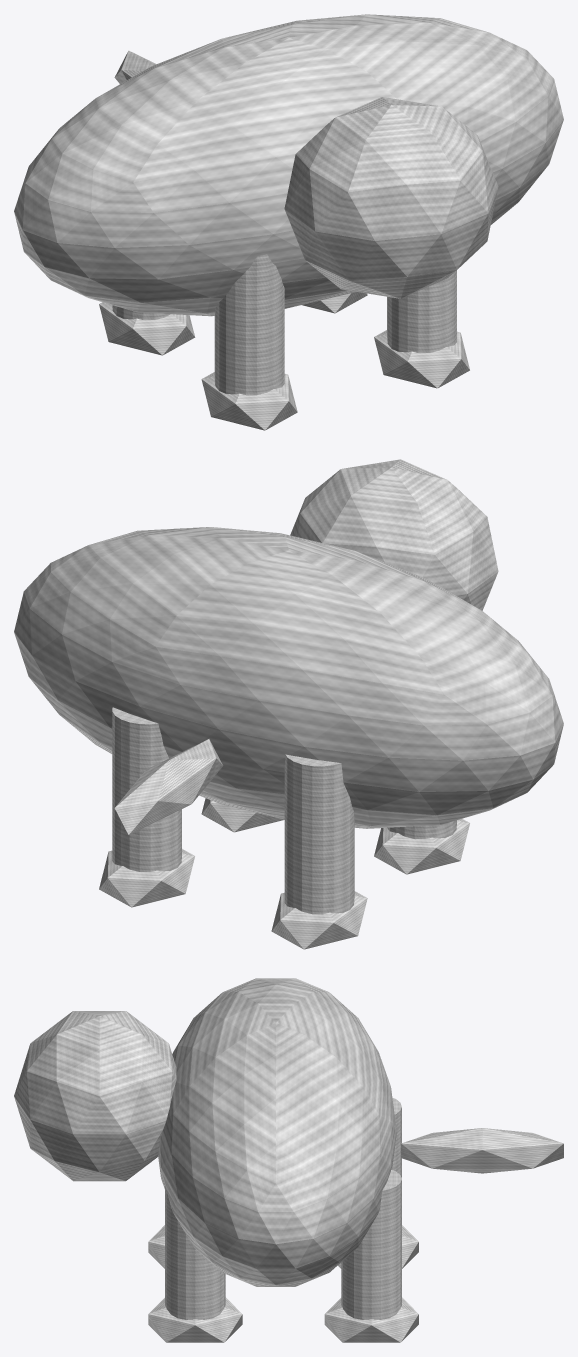
The model's file is fauna-grass-sprite_variant_d.glb.
3 views of the same model, one above another, from view 1: azimuth 30°, elevation 25°; view 2: azimuth 150°, elevation 25°; view 3: azimuth 270°, elevation 25° (orthographic). The views are drawn at different scales.
Parts seen in each view (by area): view 1: Creature torso, Creature head, Leg.012, Leg.014, Foot.013, Foot.015, Foot.014, Tail.003, Foot; view 2: Creature torso, Creature head, Leg.013, Leg.015, Tail.003, Foot.014, Foot, Foot.013, Foot.015, Leg.012; view 3: Creature torso, Creature head, Leg.015, Tail.003, Leg.014, Foot, Foot.015, Leg.013, Foot.014, Foot.013.
Boxes of the visible parts, x1,y1,x2,y2 form: Creature torso: (14,14,563,316); Creature head: (284,97,498,298); Leg.012: (214,254,284,395); Leg.014: (387,270,456,352); Foot.013: (201,372,297,430); Foot.015: (374,330,469,388); Foot.014: (99,302,195,355); Tail.003: (114,50,156,83); Foot: (302,292,367,313); Creature torso: (14,527,563,828); Creature head: (290,459,498,610); Leg.013: (284,754,354,914); Leg.015: (112,707,181,871); Tail.003: (114,739,222,834); Foot.014: (271,891,367,949); Foot: (99,849,194,907); Foot.013: (374,819,469,874); Foot.015: (201,798,284,832); Leg.012: (387,820,456,839); Creature torso: (158,978,396,1286); Creature head: (14,1011,176,1181); Leg.015: (341,1169,401,1319); Tail.003: (401,1128,563,1173); Leg.014: (165,1185,225,1319); Foot: (324,1297,418,1342); Foot.015: (148,1297,242,1342); Leg.013: (392,1097,401,1178); Foot.014: (338,1225,418,1268); Foot.013: (148,1225,164,1268).
Size of what is drawn, in the model's own units: 2.1 by 1.27 by 2.18.
3 materials, 3 textured.
